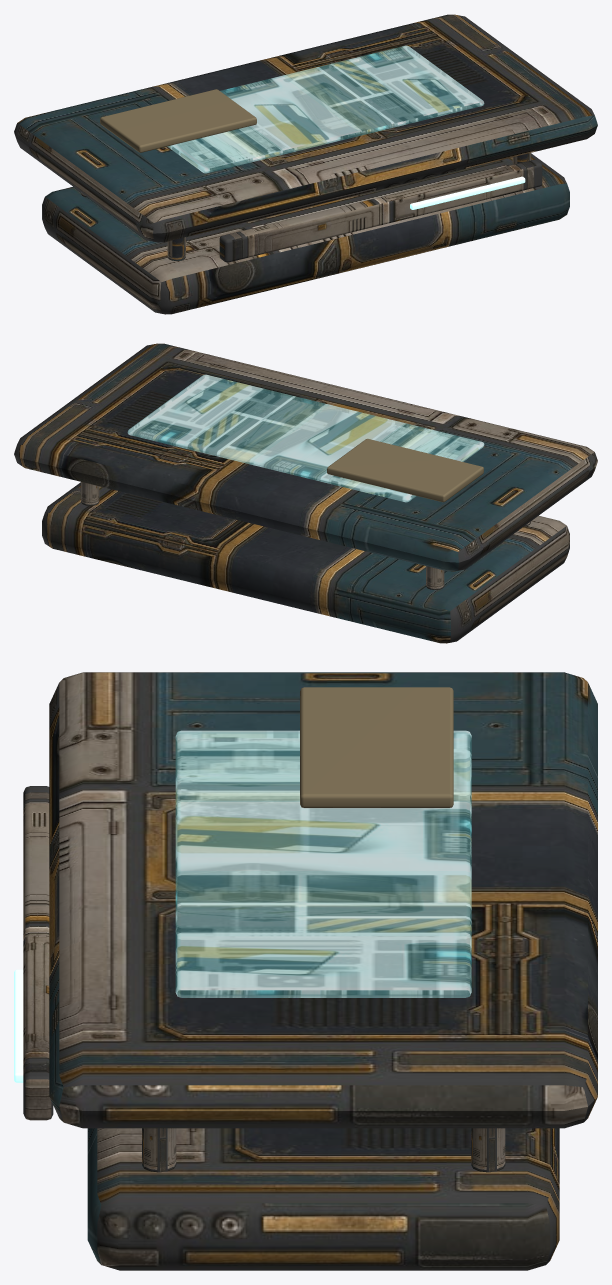
The model's file is hp_room_lounge_low_table_residential.glb.
3 renders of one model, top to bottom at view 1: azimuth 30°, elevation 25°; view 2: azimuth 150°, elevation 25°; view 3: azimuth 270°, elevation 25°, orthographic. The views are drawn at different scales.
Visible parts, largest first — view 1: floating_but_supported_table_slab, wide_grounded_shadow_base, smoked_glass_inset, front_service_drawer, blank_warm_tray_card, front_cyan_drawer_readline, black_table_leg; view 2: floating_but_supported_table_slab, wide_grounded_shadow_base, smoked_glass_inset, blank_warm_tray_card, black_table_leg.001, black_table_leg.003; view 3: floating_but_supported_table_slab, smoked_glass_inset, wide_grounded_shadow_base, blank_warm_tray_card, front_service_drawer, black_table_leg.003, black_table_leg.002, front_cyan_drawer_readline.
Part boxes in pixels (bbox=[...]): floating_but_supported_table_slab: bbox=[14, 14, 597, 242]; wide_grounded_shadow_base: bbox=[42, 153, 569, 314]; smoked_glass_inset: bbox=[167, 45, 484, 173]; front_service_drawer: bbox=[219, 160, 542, 262]; blank_warm_tray_card: bbox=[100, 89, 256, 152]; front_cyan_drawer_readline: bbox=[410, 176, 525, 209]; black_table_leg: bbox=[167, 237, 185, 260]; floating_but_supported_table_slab: bbox=[14, 343, 597, 571]; wide_grounded_shadow_base: bbox=[42, 482, 569, 643]; smoked_glass_inset: bbox=[127, 374, 484, 502]; blank_warm_tray_card: bbox=[327, 438, 483, 502]; black_table_leg.001: bbox=[426, 566, 444, 589]; black_table_leg.003: bbox=[81, 482, 99, 505]; floating_but_supported_table_slab: bbox=[49, 672, 597, 1128]; smoked_glass_inset: bbox=[175, 730, 471, 997]; wide_grounded_shadow_base: bbox=[87, 1128, 559, 1270]; blank_warm_tray_card: bbox=[300, 687, 453, 808]; front_service_drawer: bbox=[23, 786, 53, 1120]; black_table_leg.003: bbox=[471, 1128, 505, 1172]; black_table_leg.002: bbox=[142, 1128, 176, 1172]; front_cyan_drawer_readline: bbox=[14, 969, 23, 1082].
Bounding box in the file's own units: 1.5 × 0.4041 × 0.8782.
Materials: 5 (3 with a texture image).
